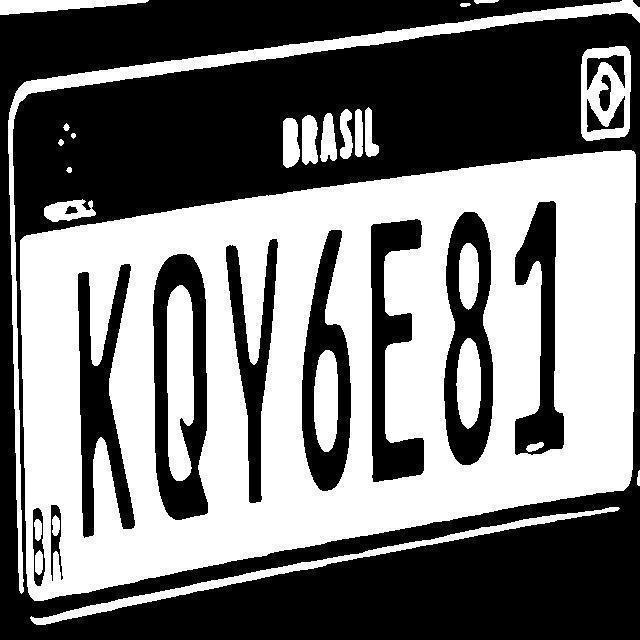1: (510, 196, 580, 466)
6: (298, 223, 362, 502)
8: (432, 209, 507, 477)
e: (362, 210, 434, 486)
k: (70, 257, 152, 544)
q: (149, 251, 222, 529)
y: (223, 234, 287, 516)
